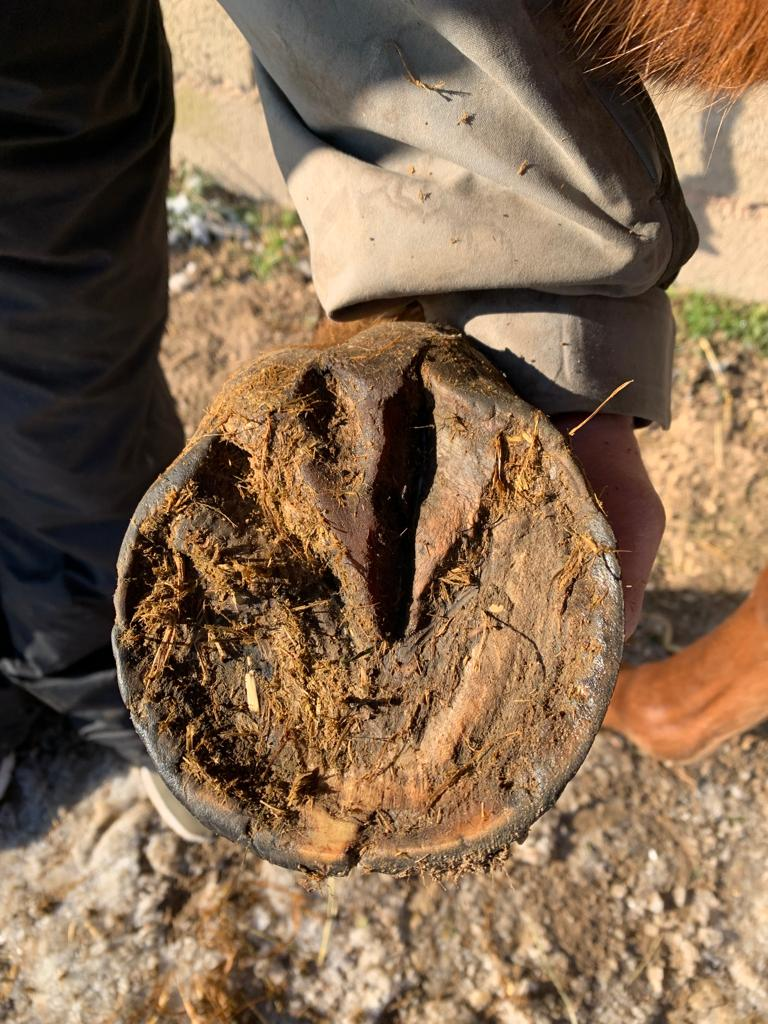horsesole: (113, 368, 625, 877)
